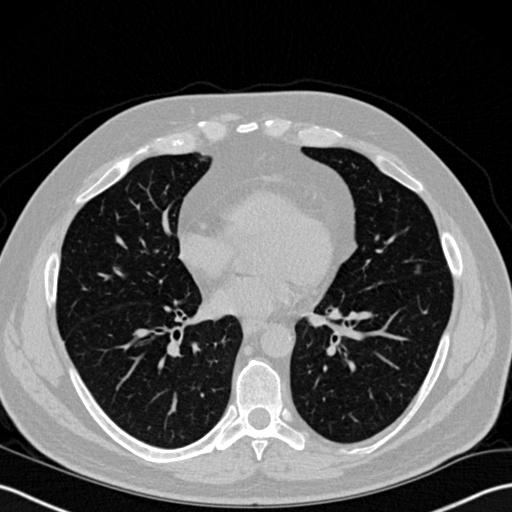nodule: (412, 263, 424, 275)
